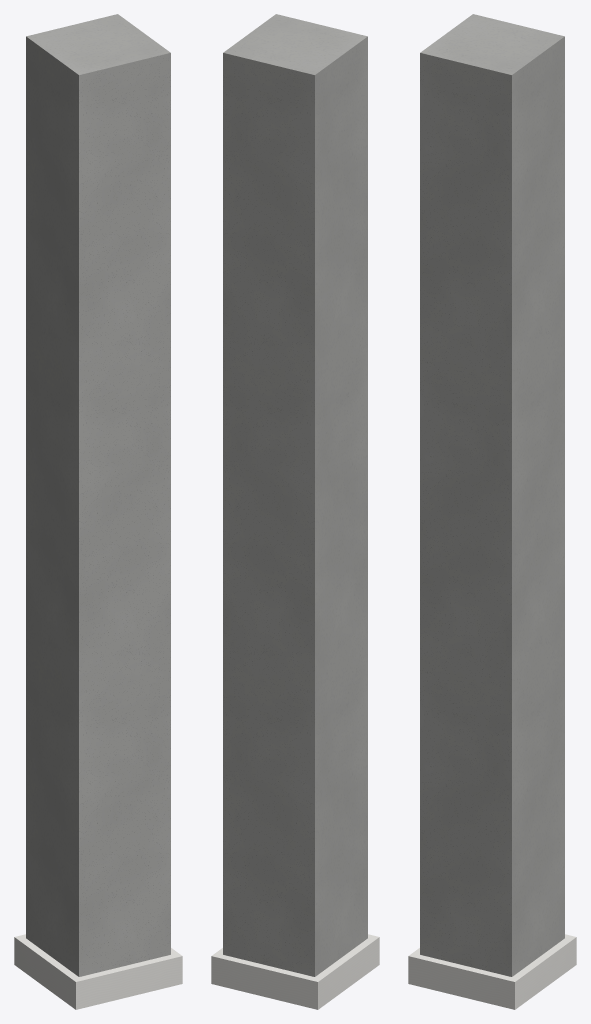
Rendered from column.gltf.
3 renders of one model, left to right at view 1: azimuth 30°, elevation 25°; view 2: azimuth 150°, elevation 25°; view 3: azimuth 330°, elevation 25°, orthographic.
Visible parts, largest first — view 1: jx_column; view 2: jx_column; view 3: jx_column.
Boxes of the visible parts, x1=… form: jx_column: x1=14, y1=14, x2=182, y2=1009; jx_column: x1=211, y1=14, x2=379, y2=1009; jx_column: x1=408, y1=14, x2=576, y2=1009.
Size of the model in its own units: 0.72 by 6 by 0.72.
Materials: 2 (2 with a texture image).
